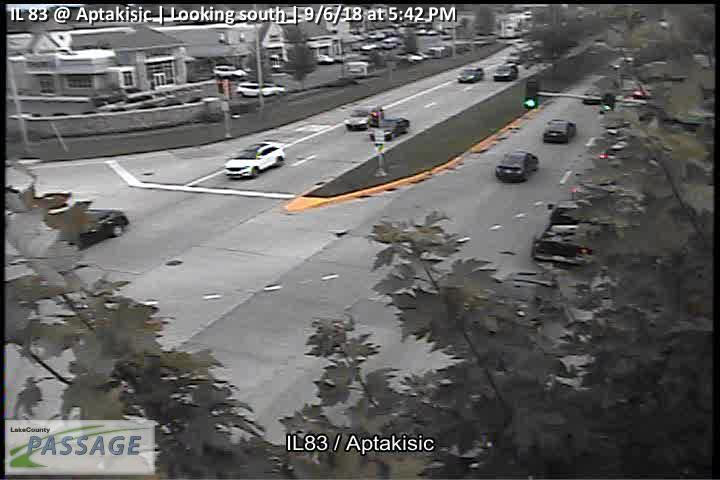SUV: (222, 140, 286, 179), (343, 106, 384, 132)
Sedan: (494, 151, 539, 183), (368, 117, 411, 141), (543, 119, 577, 145), (456, 68, 485, 84), (493, 64, 519, 81)
